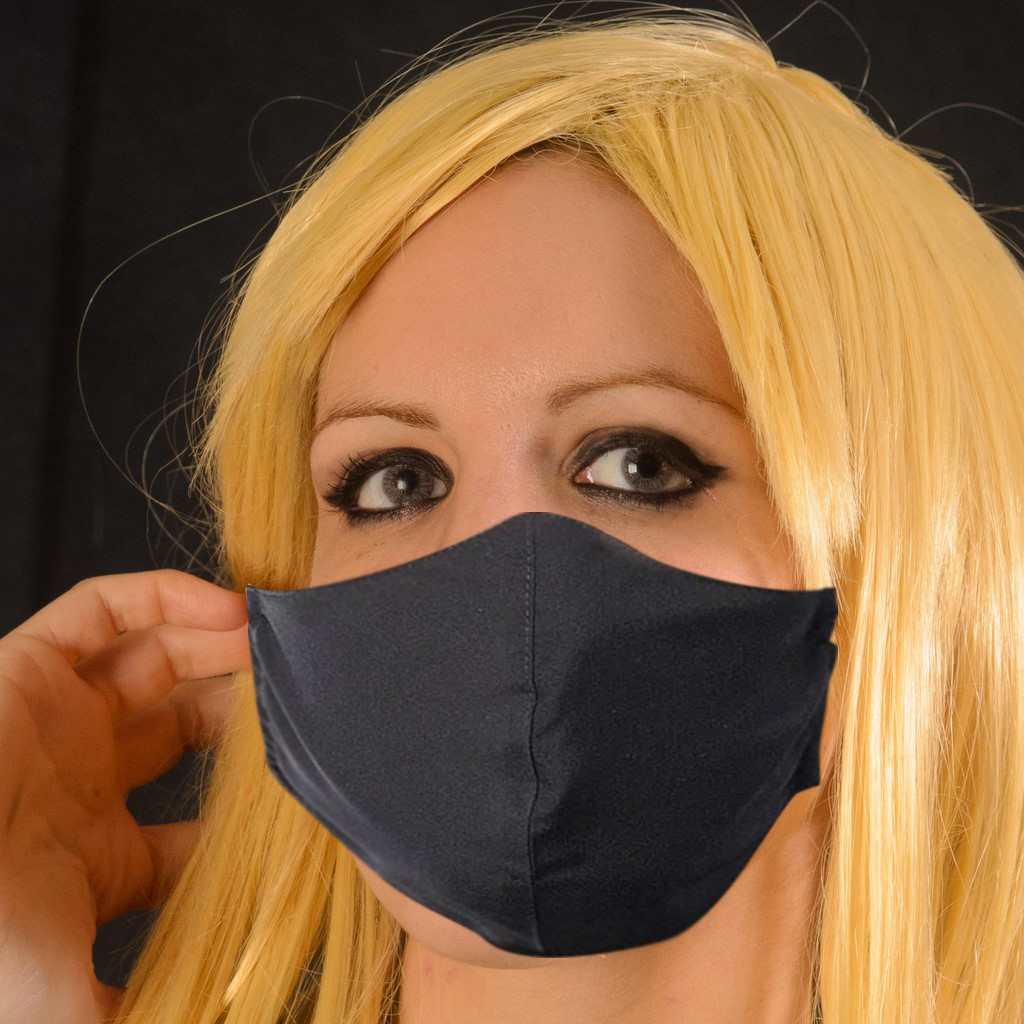con_mascara: (186, 140, 871, 957)
